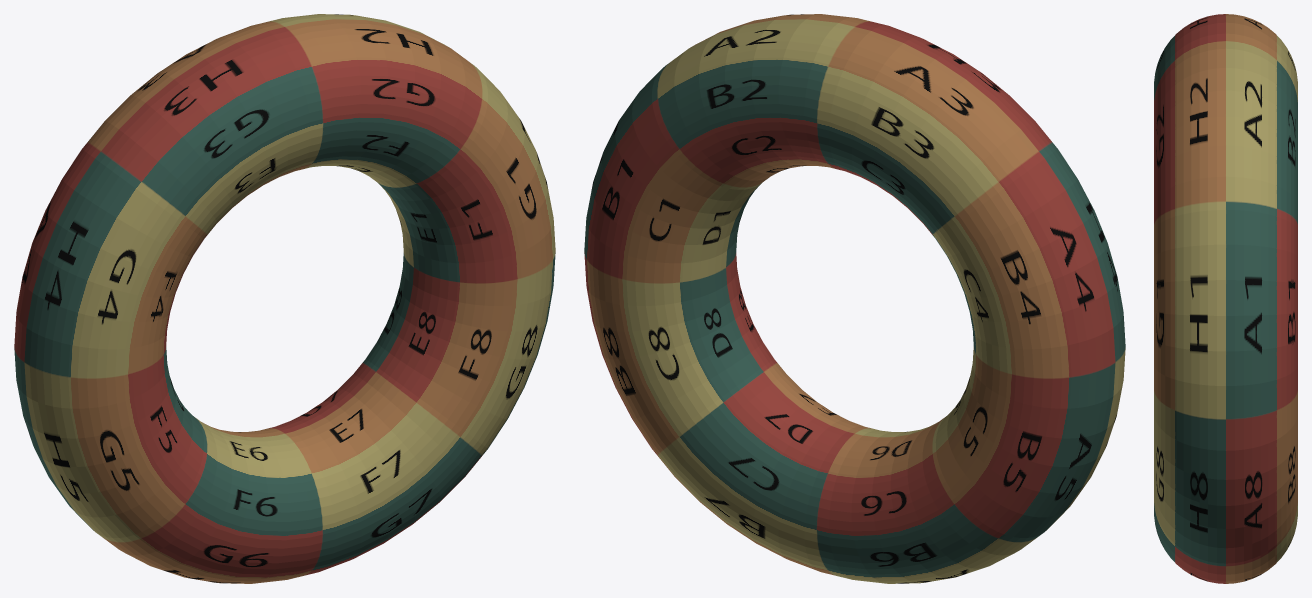
The model's file is texture_torus_R14_r17.glb.
The picture shows the model from 3 angles, left to right: view 1: azimuth 30°, elevation 25°; view 2: azimuth 150°, elevation 25°; view 3: azimuth 270°, elevation 25°; orthographic projection. The views are drawn at different scales.
Visible parts, largest first — view 1: world; view 2: world; view 3: world.
Boxes of the visible parts, x1=… form: world: x1=14, y1=14, x2=555, y2=583; world: x1=584, y1=14, x2=1125, y2=583; world: x1=1154, y1=14, x2=1297, y2=583.
Size of the model in its own units: 25.87 by 25.82 by 6.52.
1 material, 1 textured.
